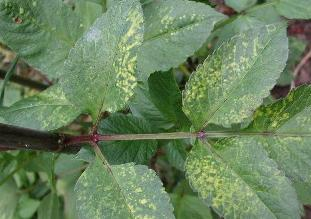Tomato leaf mosaic virus: (183, 19, 292, 130), (63, 0, 149, 129), (183, 136, 306, 219), (74, 152, 183, 219)
